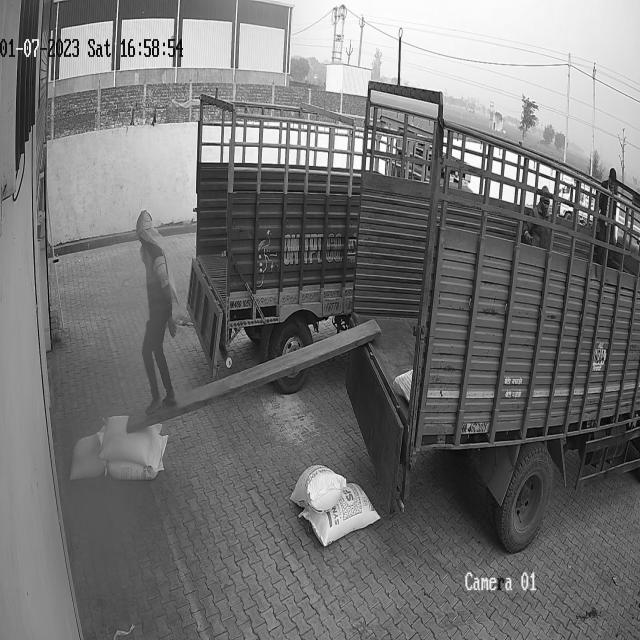sack: (298, 483, 380, 546), (100, 414, 160, 466), (104, 435, 168, 479), (290, 464, 346, 514), (69, 429, 107, 482)
